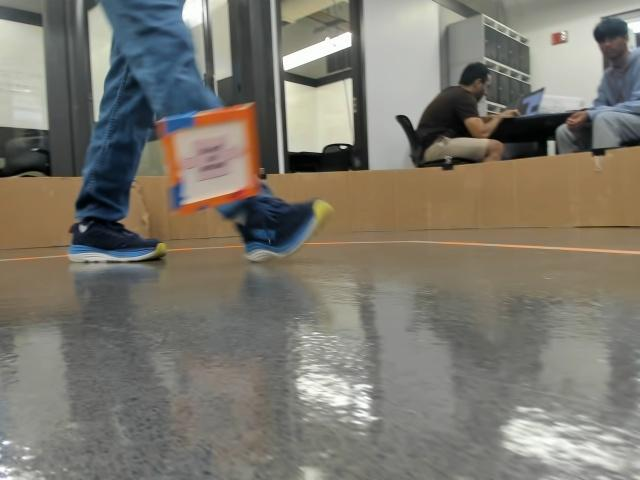Do Not Go Around: (178, 145, 241, 184)
